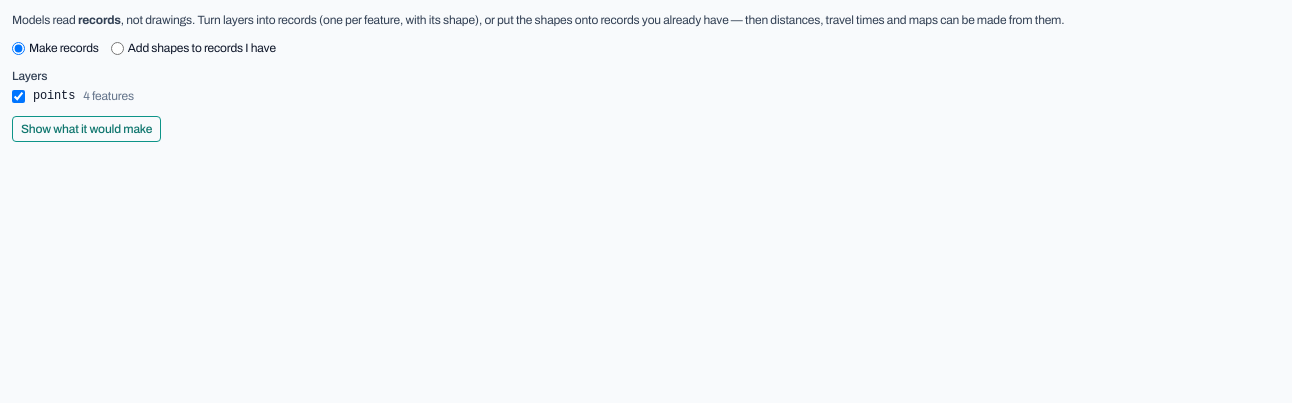
Test: will not quietly add features to a kind that already exists
The width and height of the screenshot is (1292, 403).
Click the button "Show what it would make" at (87, 129), box [12,116,161,142]
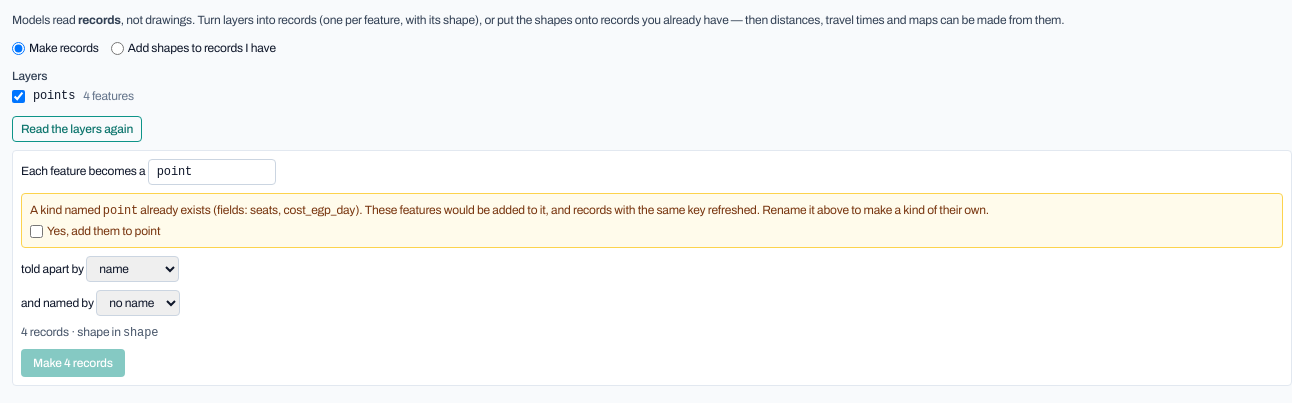
Expected: the message shows "A kind named point already exists (fields: seats, cost_egp_day)", [21,193,1283,248]
Expected: the button "Make 4 records" is disabled, [21,349,125,377]
# Renamed: a kind of their own, no warning.
Replace the text in the field named "Kind of record" with "hospital" at (212, 172), box [148,159,276,185]
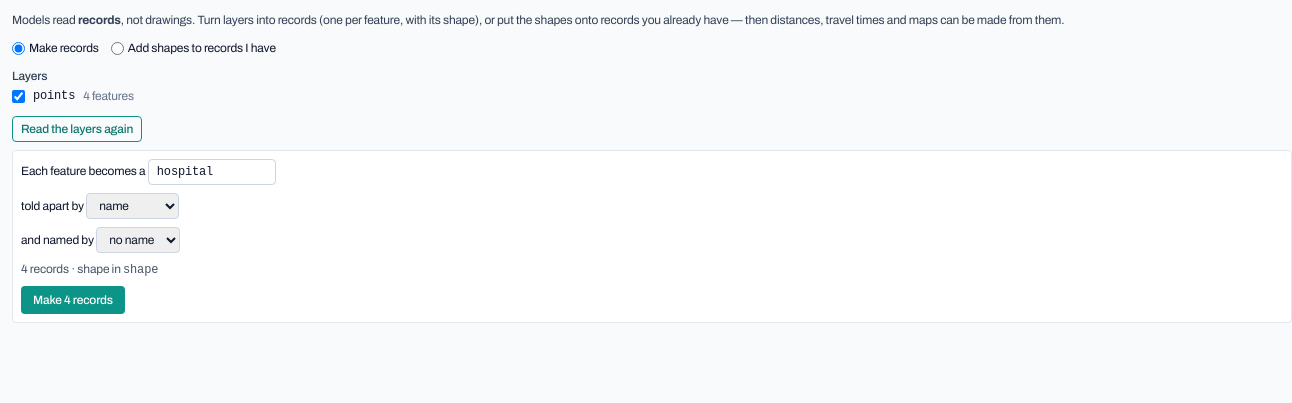
Expected: the message "A kind named point already exists (fields: seats, cost_egp_day). These features" is gone
Expected: the button "Make 4 records" is enabled, [21,286,125,314]
# Or added on purpose.
Replace the text in the field named "Kind of record" with "point" at (212, 172), box [148,159,276,185]
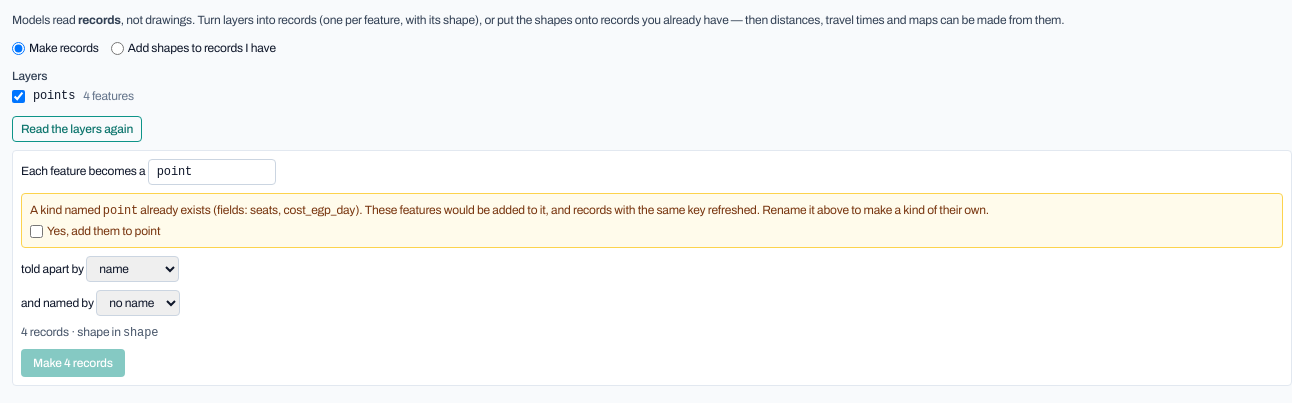
Click the checkbox labelled "Yes, add them to point" at (36, 231), box [30,224,43,238]
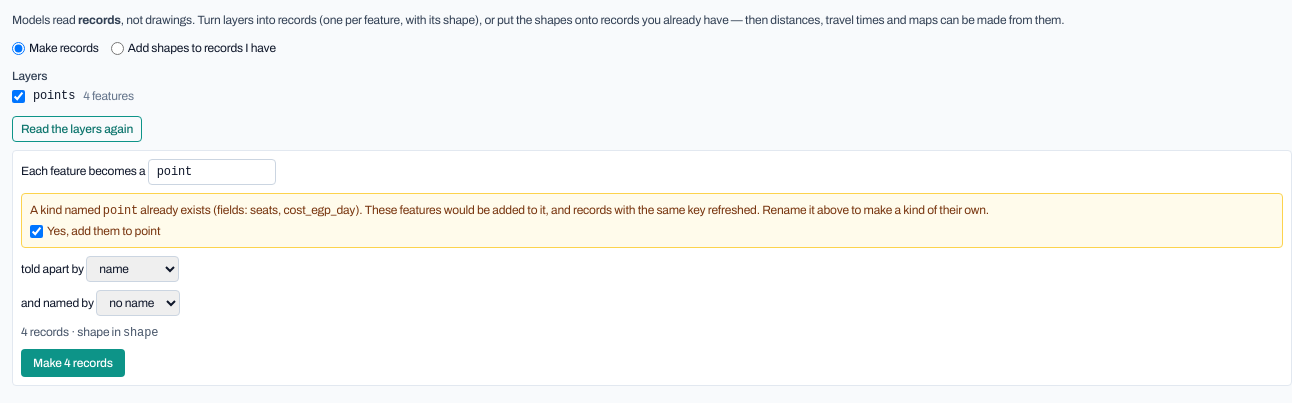
Expected: the button "Make 4 records" is enabled, [21,349,125,377]
